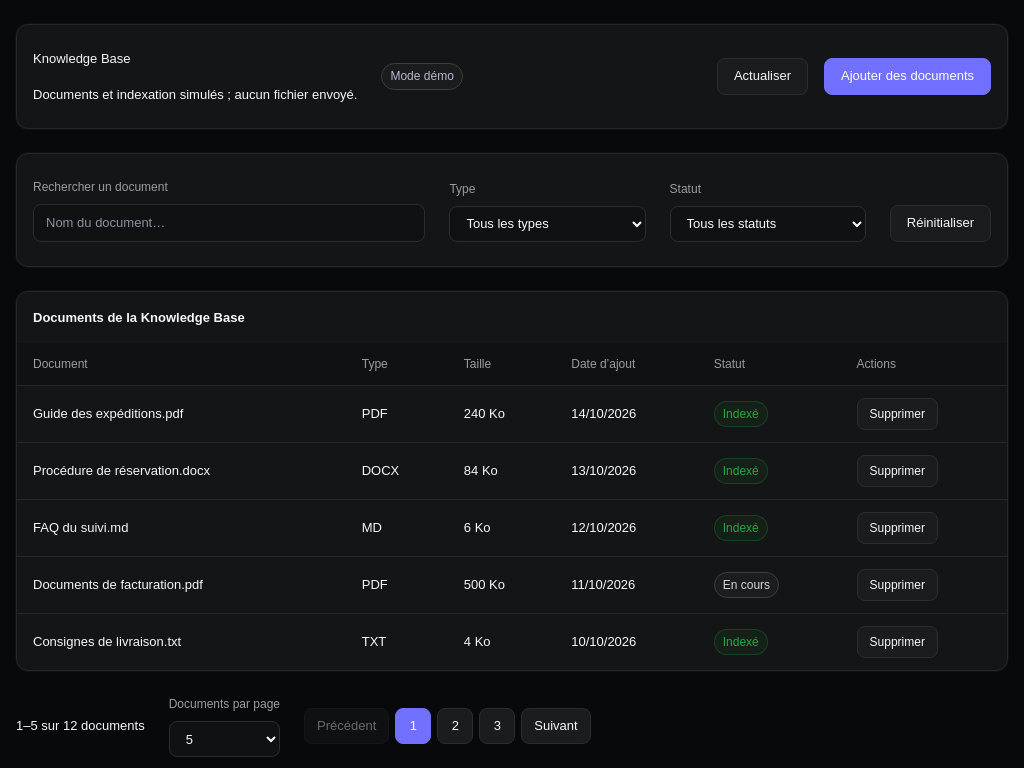
Scenario: mock knowledge base › combines search and filters, ignores accents and resets pagination when filtering
The width and height of the screenshot is (1024, 768).
Click the button "Suivant".
click(556, 726)  # box [521,708,591,744]
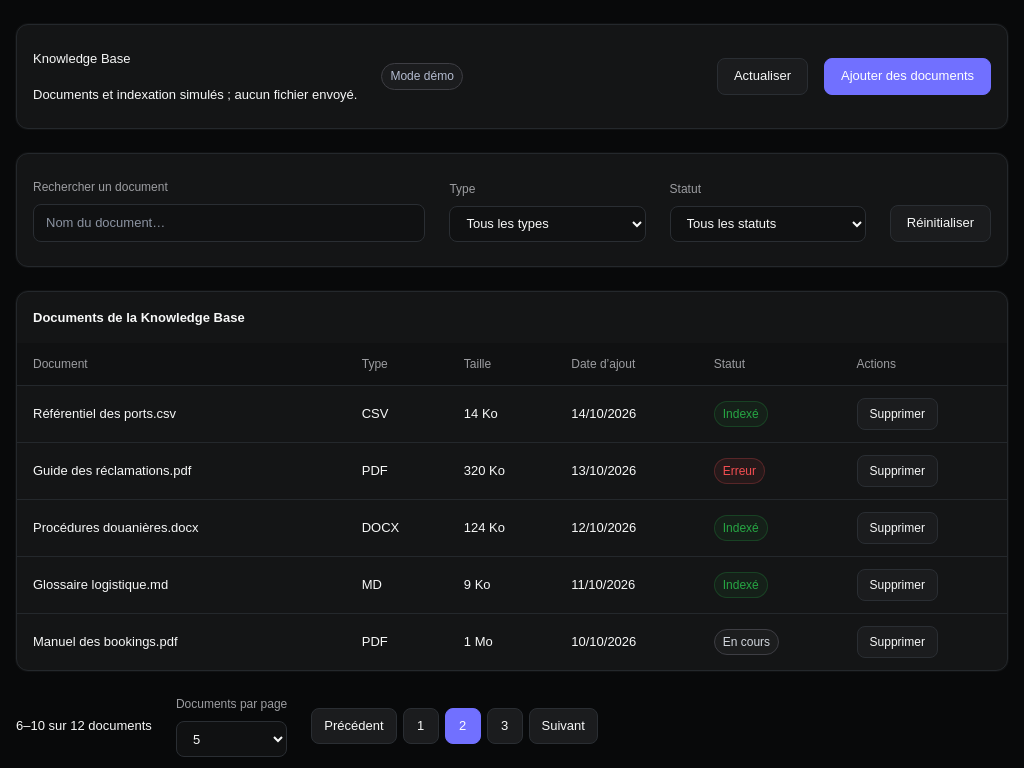
Type "EXPEDITIONS" into the field labelled "Rechercher un document".
click(229, 223); type("EXPEDITIONS")  # box [33,204,425,242]
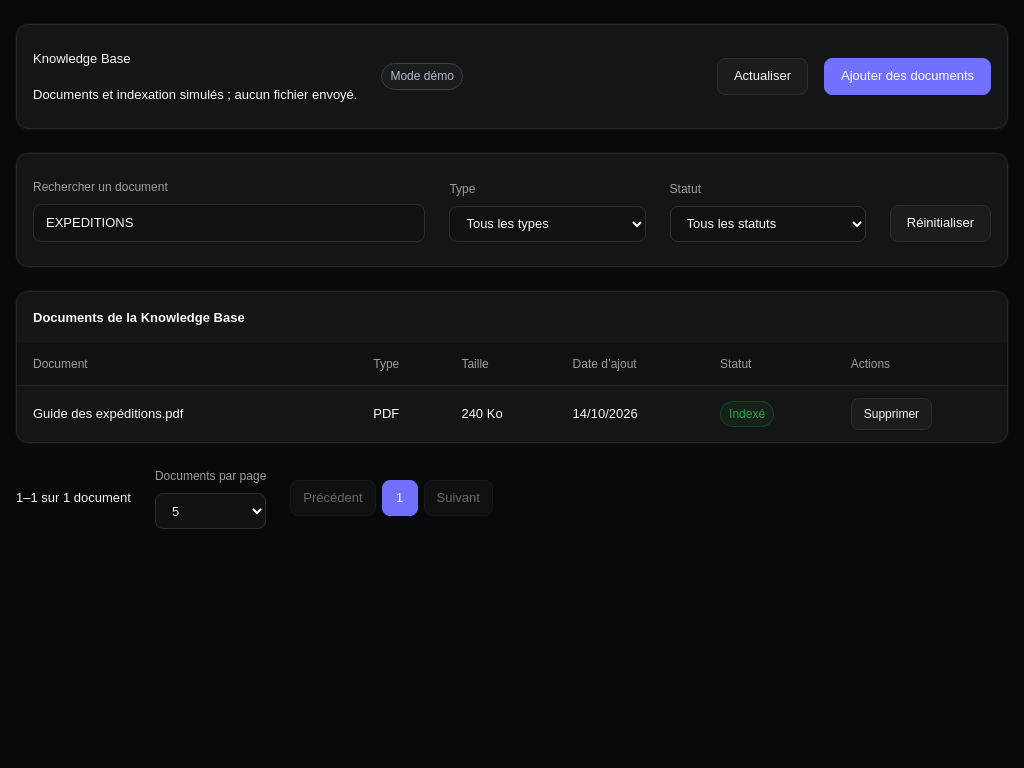
Expected: the text "Guide des expéditions.pdf" is shown, [33,406,183,421]
Expected: the text "1–1 sur 1 document" is shown, [16,488,131,508]
Click the button "Réinitialiser".
click(940, 223)  # box [890,205,991,242]
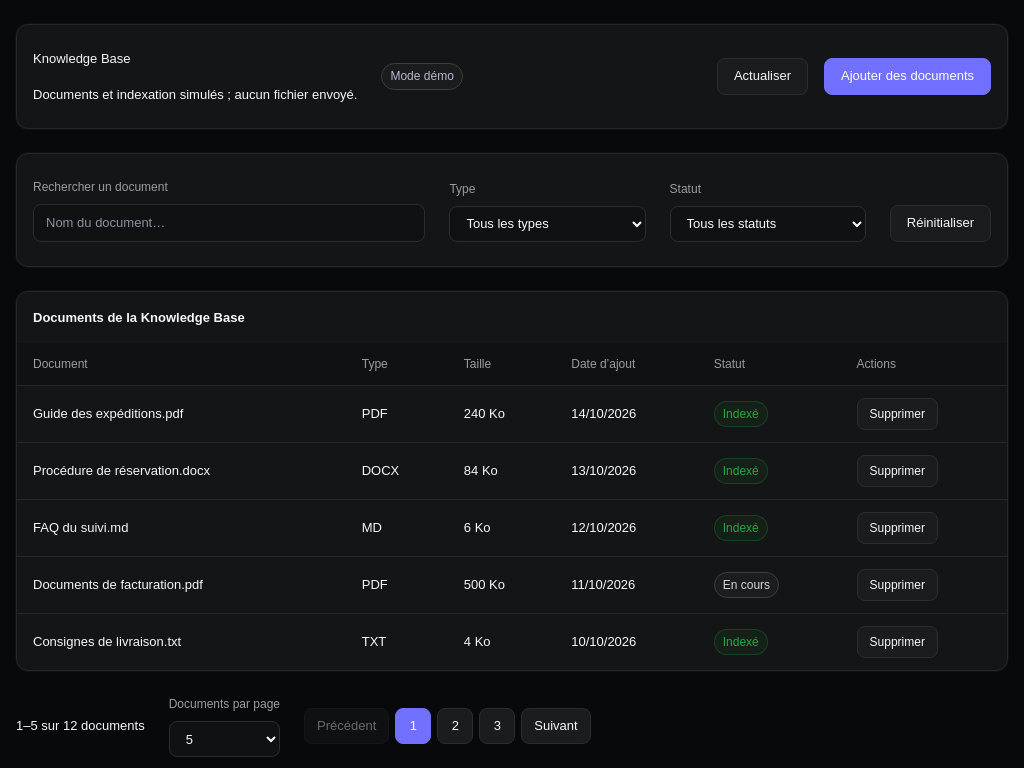
Select "PDF" in the dropdown labelled "Type" at (548, 224), box [449,206,646,242]
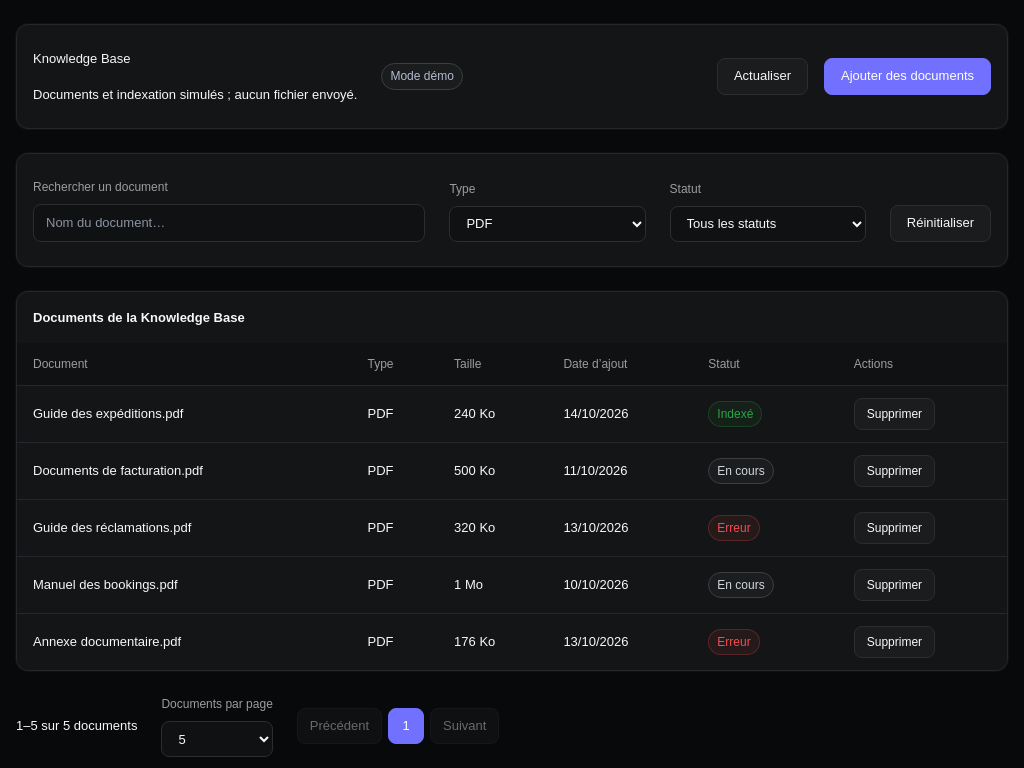
Select "Erreur" in the dropdown labelled "Statut" at (768, 224), box [670,206,866,242]
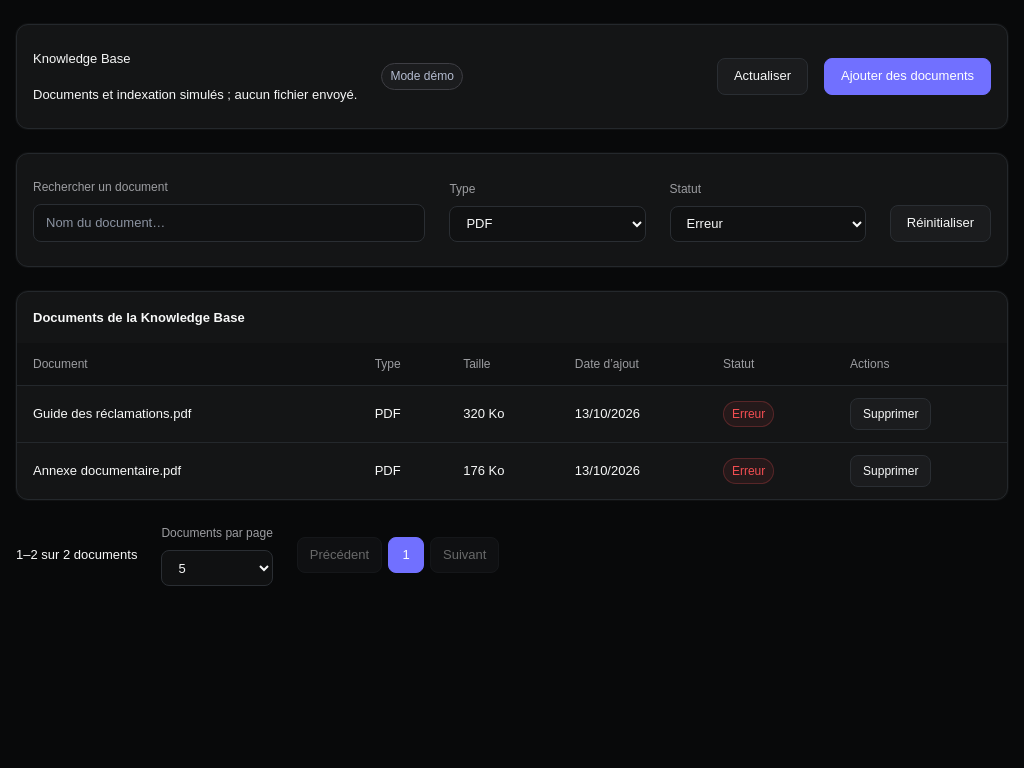
Expected: the text "Guide des réclamations.pdf" is shown, [33,406,191,421]
Expected: the text "Annexe documentaire.pdf" is shown, [33,463,181,478]
Expected: the text "1–2 sur 2 documents" is shown, [16,545,137,565]
